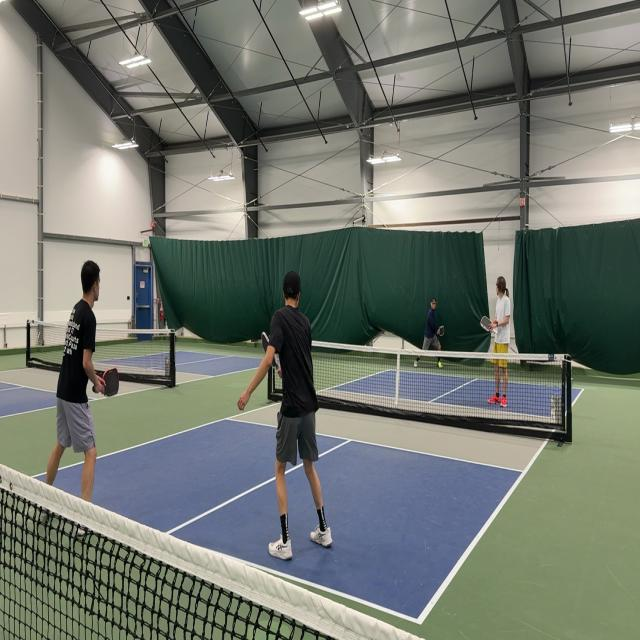ball: (438, 361, 441, 368)
